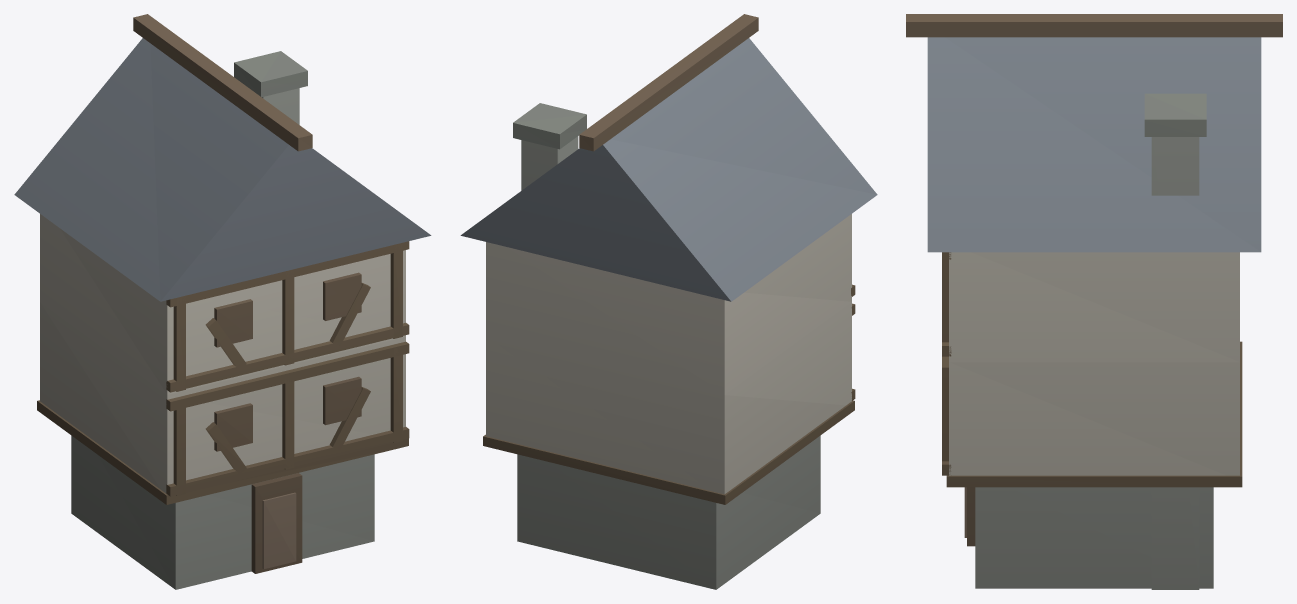
File: house_tall.glb
3 renders of one model, left to right at view 1: azimuth 30°, elevation 25°; view 2: azimuth 150°, elevation 25°; view 3: azimuth 270°, elevation 25°, orthographic. The views are drawn at different scales.
Parts seen in each view (by area): view 1: house_tall; view 2: house_tall; view 3: house_tall.
Part boxes in pixels (left/top/right/bottom): house_tall: left=14, top=14, right=431, bottom=589; house_tall: left=460, top=14, right=877, bottom=589; house_tall: left=906, top=14, right=1282, bottom=589.
Size of the model in its own units: 1.5 by 2.38 by 1.58.
